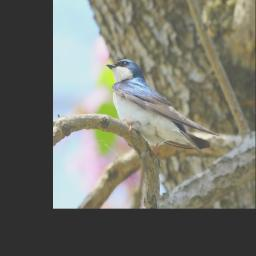Swallow: (106, 58, 221, 161)
